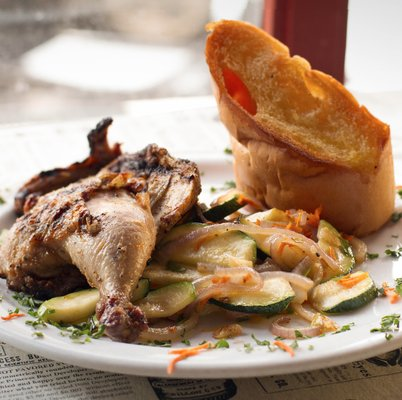pizza: (264, 0, 349, 84)
soup: (204, 19, 395, 237)
